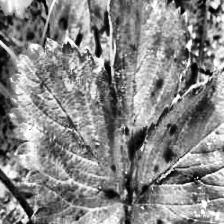Leaf Spot: (7, 35, 127, 224), (107, 0, 193, 192), (129, 67, 224, 224)
